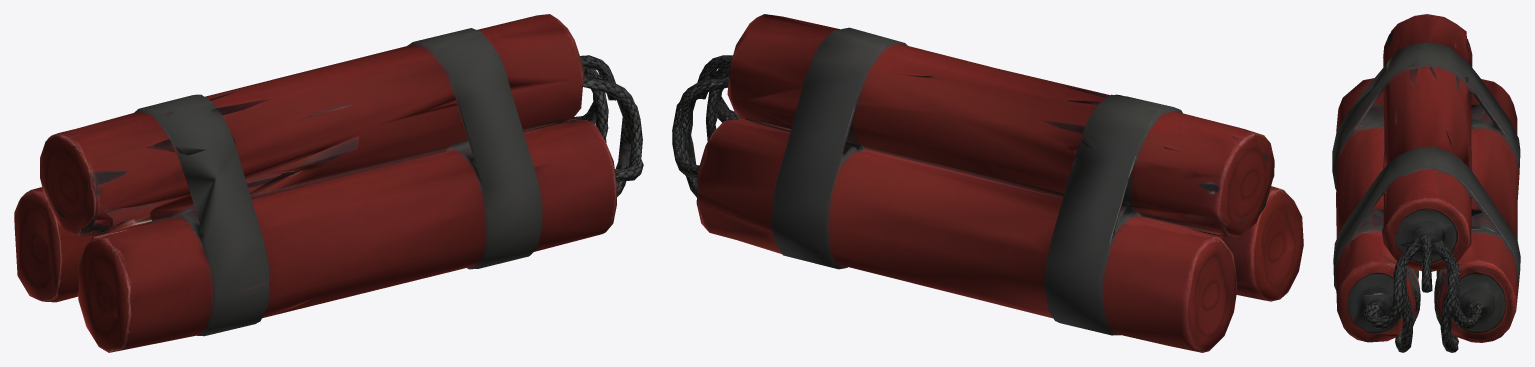
The model's file is Meshy_AI_Dynamite_Bundle_0513143803_texture.fbx.
3 renders of one model, left to right at view 1: azimuth 30°, elevation 25°; view 2: azimuth 150°, elevation 25°; view 3: azimuth 270°, elevation 25°, orthographic. The views are drawn at different scales.
Visible parts, largest first — view 1: Mesh_0; view 2: Mesh_0; view 3: Mesh_0.
Boxes of the visible parts, <box> form: Mesh_0: <box>14,14,643,352</box>; Mesh_0: <box>672,14,1303,352</box>; Mesh_0: <box>1332,14,1520,352</box>.
Bounding box in the file's own units: 191 × 64.55 × 72.32.
Materials: 1 (1 with a texture image).
